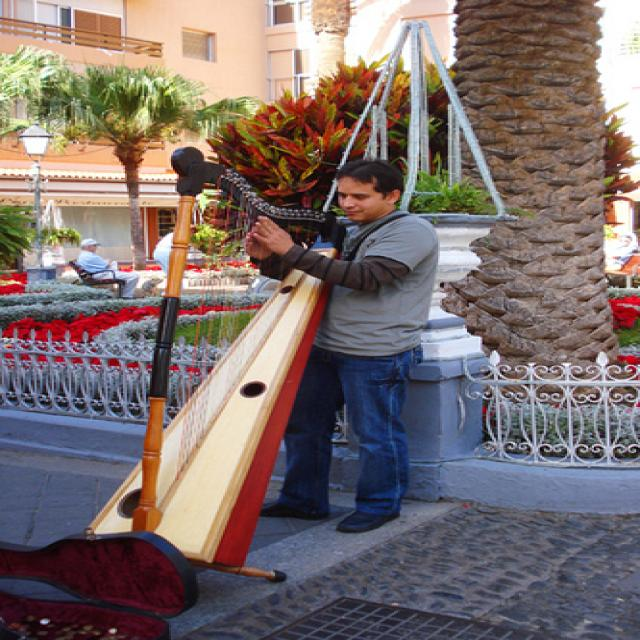harp: (74, 144, 355, 582)
